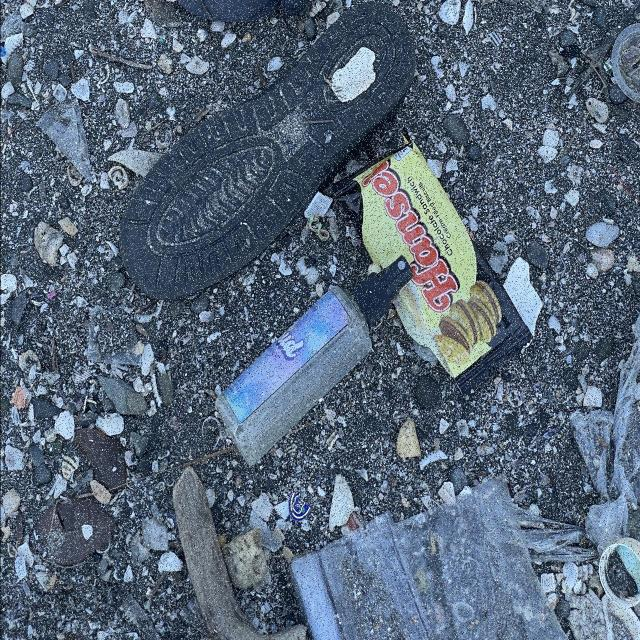plastic_waste: (323, 133, 534, 397)
rubber_waste: (113, 1, 418, 303)
